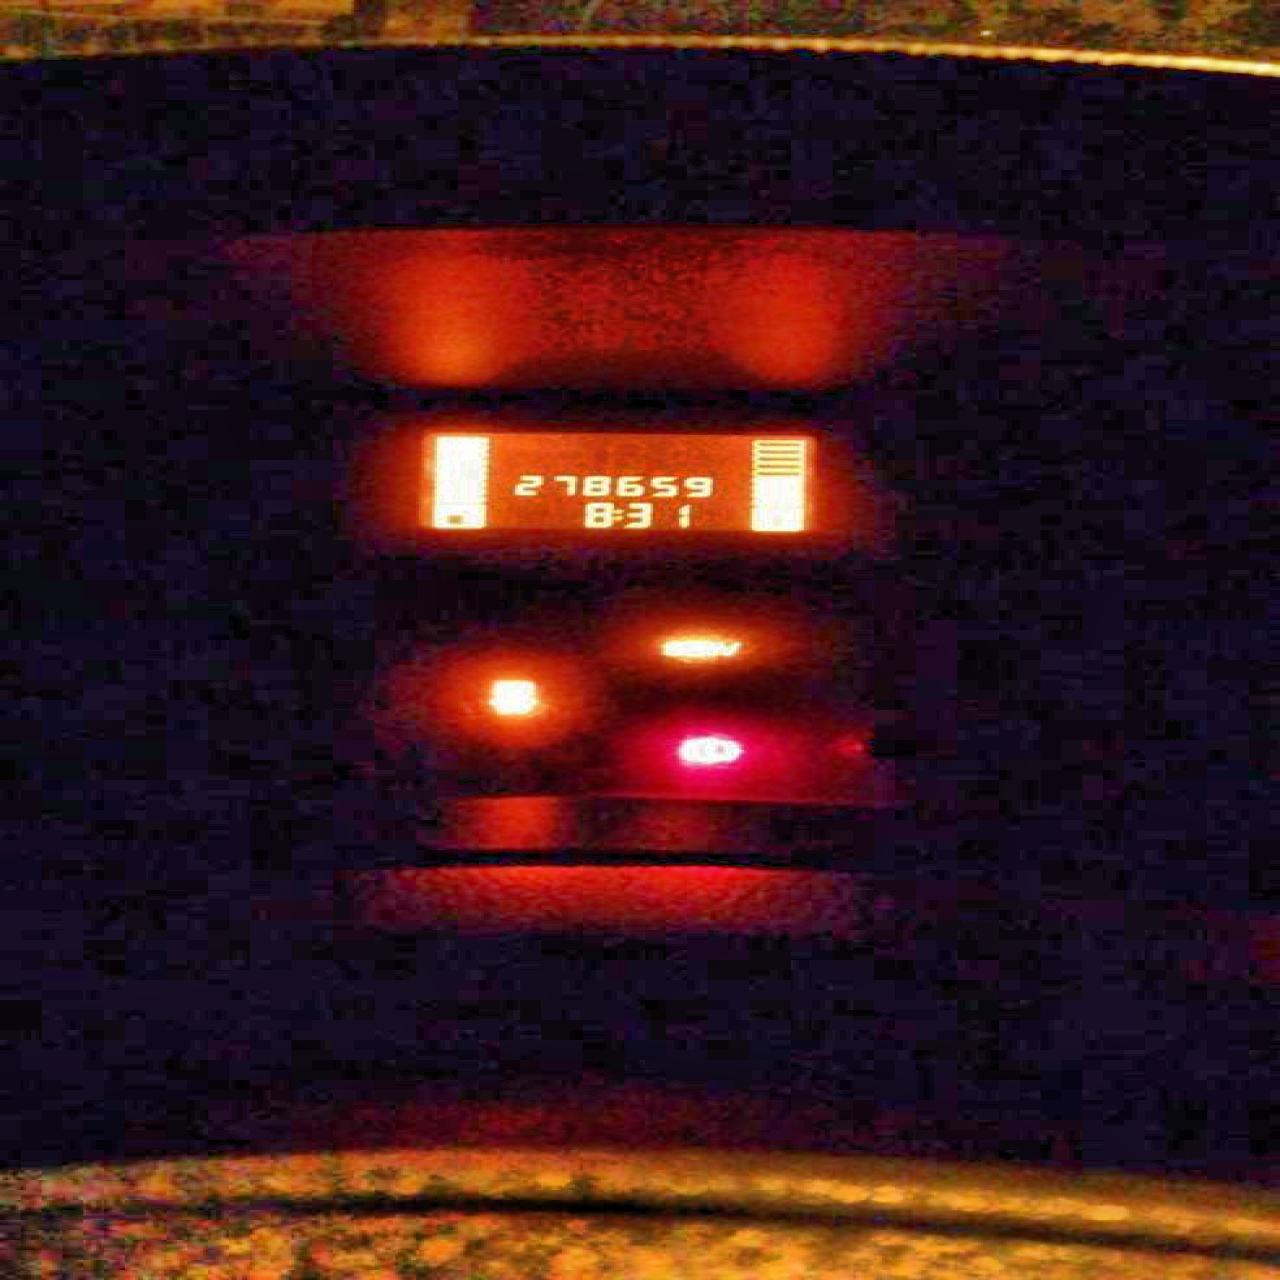1: (674, 503, 689, 529)
2: (510, 474, 542, 496)
3: (621, 502, 651, 527)
5: (646, 475, 676, 496)
6: (612, 475, 642, 496)
7: (549, 474, 576, 496)
8: (580, 502, 614, 527), (578, 475, 608, 496)
9: (681, 475, 713, 497)
X: (612, 508, 625, 520)
odometer: (408, 428, 825, 537)
